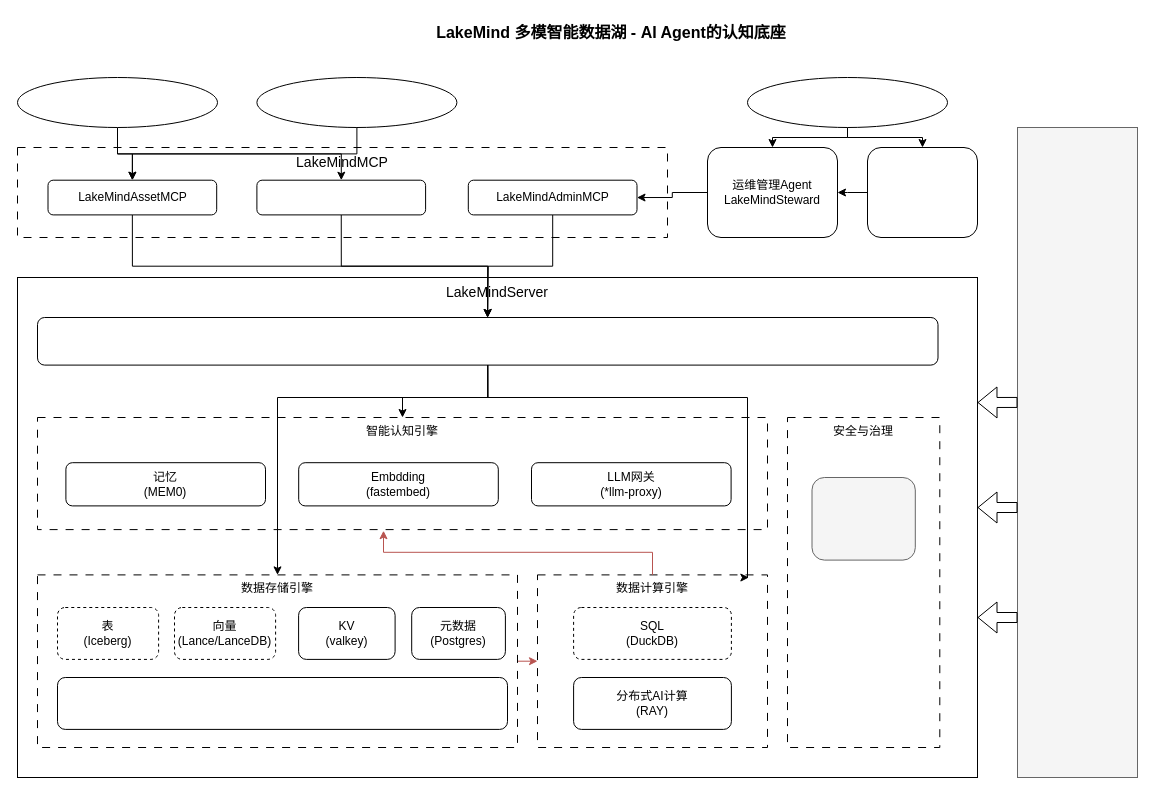
Image size: 1155x795. Some labels were removed from this diagram. Here are the shapes that lost their labels. From the top down, the centre of each, then its label:
At (x=117, y=102): "业务Agent".
At (x=356, y=102): "业务人员".
At (x=847, y=102): "管理人员".
At (x=341, y=197): "LakeMindDataMCP".
At (x=922, y=192): "LakeMindMonitor".
At (x=487, y=340): "RESTful API (*server-api)".
At (x=1077, y=452): "LakeMindStudio".
At (x=863, y=518): "权限管理 (Ranger)".
At (x=282, y=702): "S3对象存储 (SeeweedFS)".
